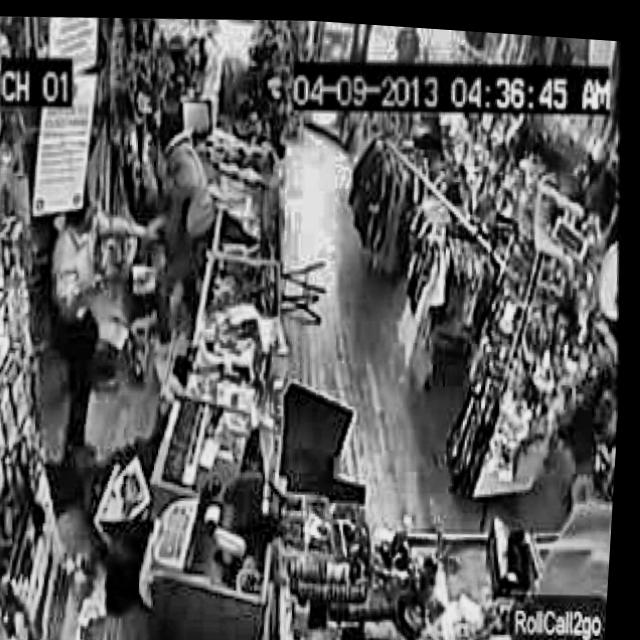robbery: (39, 101, 235, 362)
